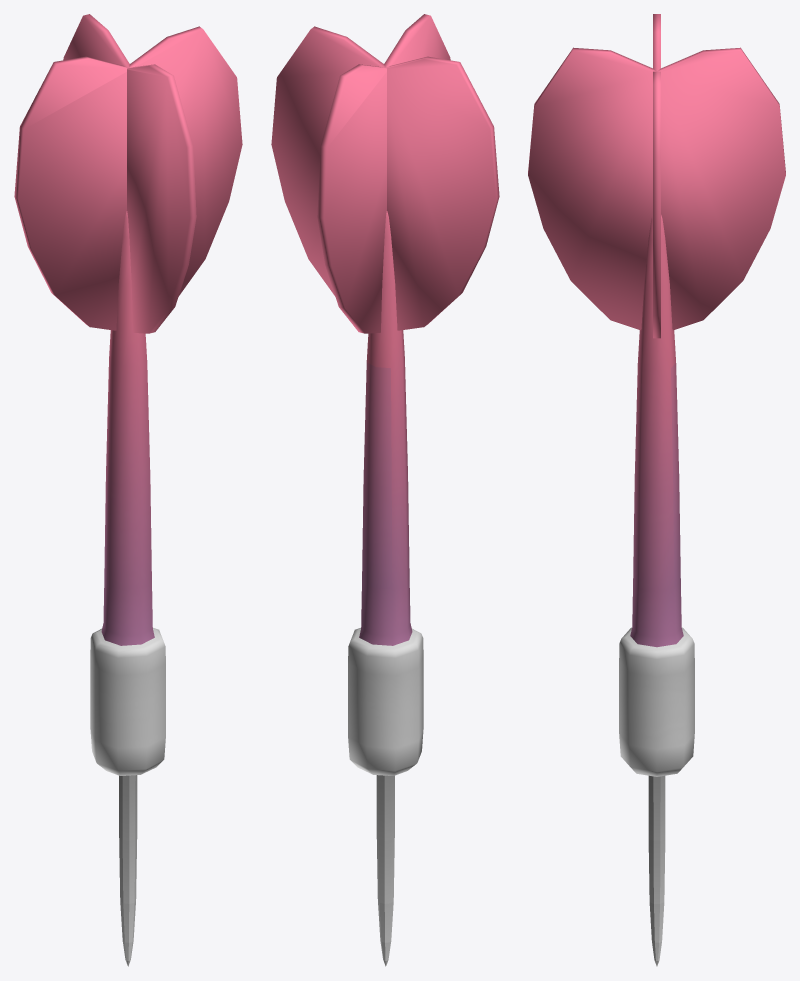
Rendered from SM_dart_red_metal.fbx.
3 renders of one model, left to right at view 1: azimuth 30°, elevation 25°; view 2: azimuth 150°, elevation 25°; view 3: azimuth 270°, elevation 25°, orthographic.
Parts seen in each view (by area): view 1: Cube.013; view 2: Cube.013; view 3: Cube.013.
Part boxes in pixels (bbox=[...]): Cube.013: bbox=[14, 14, 242, 966]; Cube.013: bbox=[271, 14, 499, 966]; Cube.013: bbox=[528, 14, 785, 966].
Size of the model in its own units: 388 by 1521 by 388.
